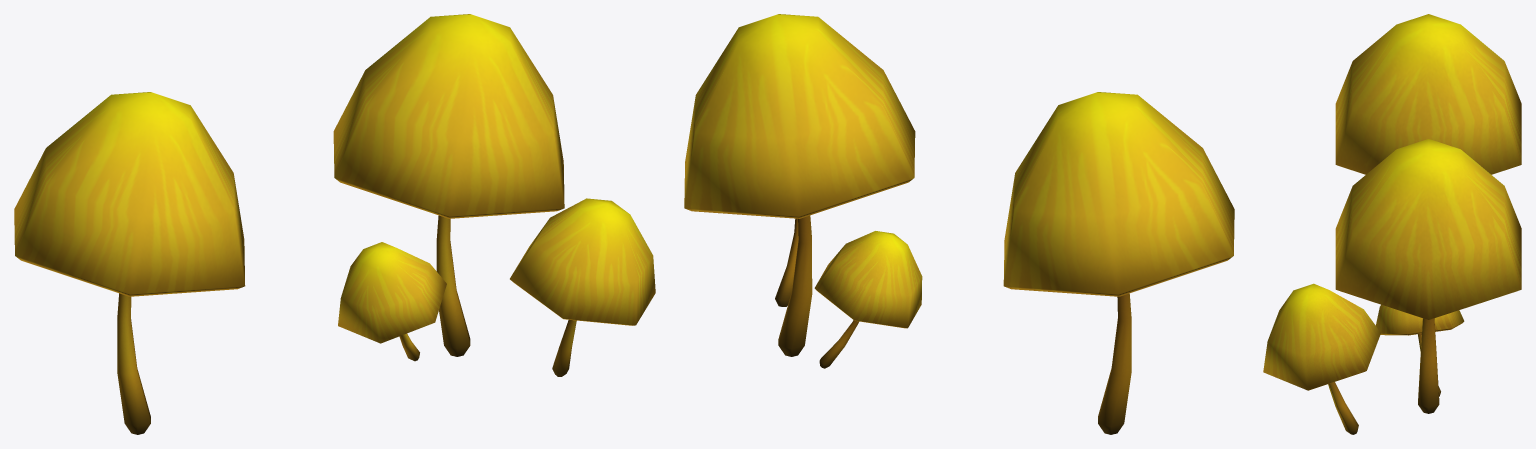
Rendered from Mushroom2.glb.
3 views of the same model, side by side, from view 1: azimuth 30°, elevation 25°; view 2: azimuth 150°, elevation 25°; view 3: azimuth 270°, elevation 25° (orthographic). The views are drawn at different scales.
Visible parts, largest first — view 1: Mushroom 6_group, Mushroom 6_single; view 2: Mushroom 6_group, Mushroom 6_single; view 3: Mushroom 6_group, Mushroom 6_single.
Boxes of the visible parts, <box> form: Mushroom 6_group: <box>333,14,655,376</box>; Mushroom 6_single: <box>14,92,245,434</box>; Mushroom 6_group: <box>684,14,922,368</box>; Mushroom 6_single: <box>1003,92,1234,434</box>; Mushroom 6_group: <box>1263,139,1521,434</box>; Mushroom 6_single: <box>1335,14,1521,174</box>.
Bounding box in the file's own units: 12.47 × 7.1 × 6.17.
Materials: 1 (1 with a texture image).
